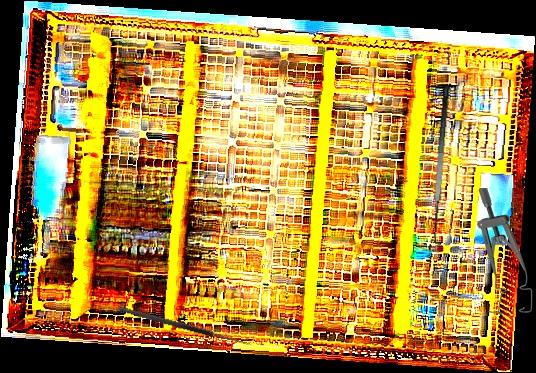Hook Surgical: (116, 299, 255, 348)
Spatula Surgical: (426, 84, 464, 247)
Speculum: (477, 188, 533, 314)
